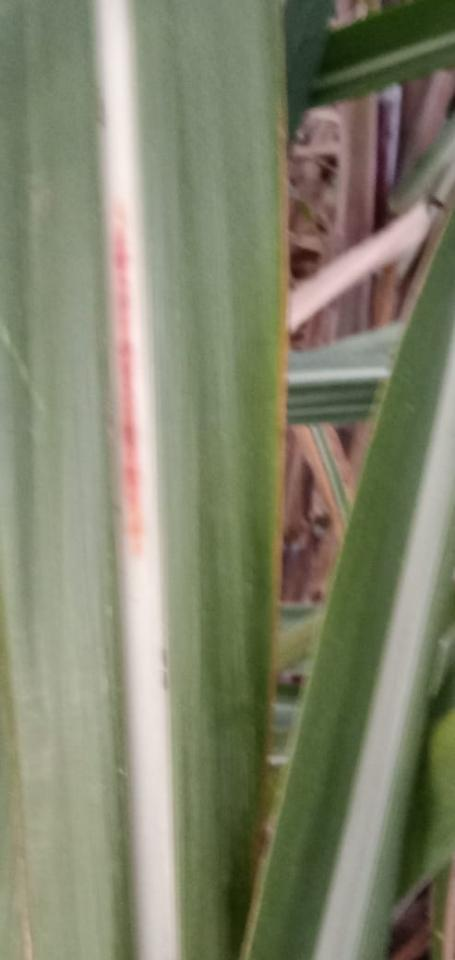RedRot: (112, 208, 143, 554)
Yellow: (266, 92, 288, 741)
